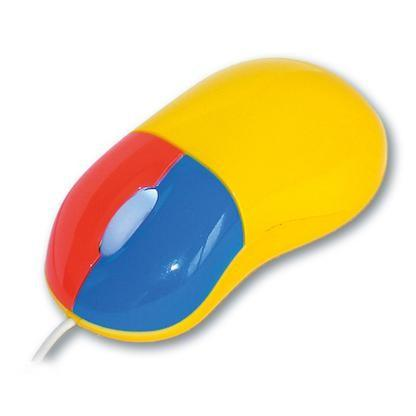not trash: (36, 50, 392, 346)
